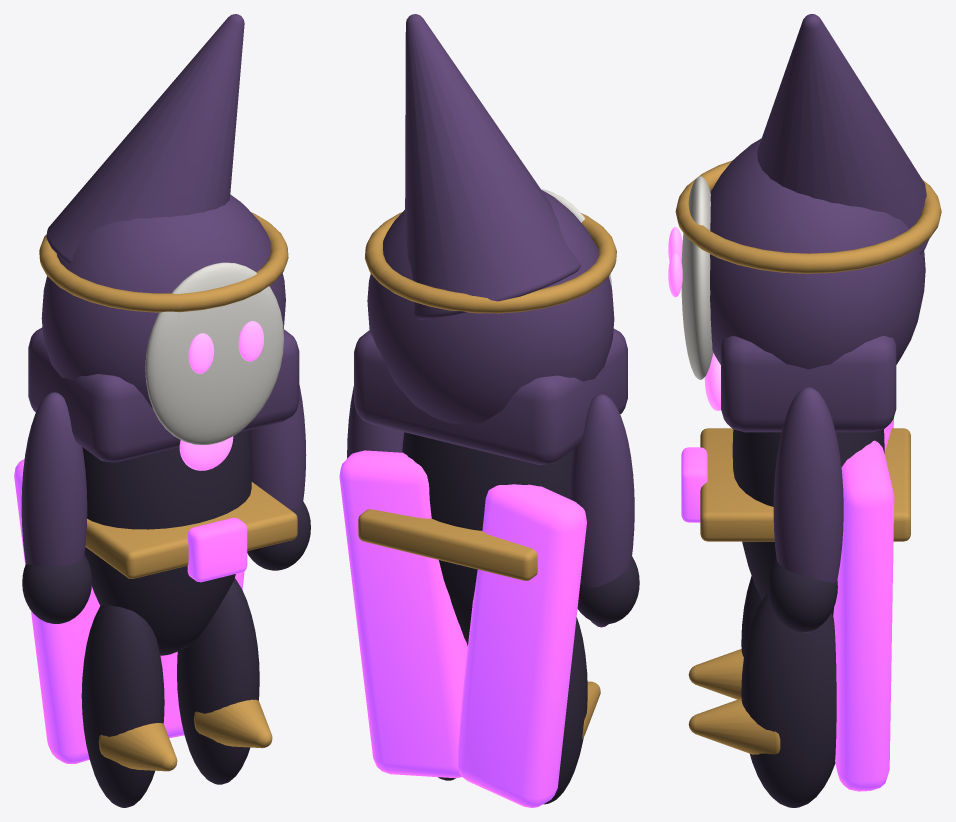
The model's file is mirage.glb.
The picture shows the model from 3 angles, left to right: view 1: azimuth 30°, elevation 25°; view 2: azimuth 150°, elevation 25°; view 3: azimuth 270°, elevation 25°; orthographic projection. The views are drawn at different scales.
Visible parts, largest first — view 1: CrescentHood, CrescentTip, TailoredTorso, PorcelainMask, Boot.002, HighCollar, Boot.003, Sleeve.002, Belt.001, Accent_CoatTail, GoldHoodBand, Sleeve.003 (+9 smaller); view 2: Accent_CoatTail, CrescentTip, Accent_CoatTail.001, CrescentHood, HighCollar, TailoredTorso, Sleeve.002, Belt.001, GoldHoodBand, Boot.002, Glove.002, Sleeve.003; view 3: CrescentHood, CrescentTip, Accent_CoatTail.001, Boot.003, HighCollar, Sleeve.003, Belt.001, GoldHoodBand, TailoredTorso, PorcelainMask, Glove.003, GoldToe.003 (+5 smaller).
Part boxes in pixels (box(x1,y1,x2,y2)): CrescentHood: box(41, 194, 285, 408); CrescentTip: box(46, 14, 244, 262); TailoredTorso: box(82, 430, 252, 655); PorcelainMask: box(145, 262, 283, 444); Boot.002: box(81, 605, 164, 807); HighCollar: box(28, 327, 299, 462); Boot.003: box(177, 578, 259, 784); Sleeve.002: box(21, 392, 87, 566); Belt.001: box(85, 482, 297, 578); Accent_CoatTail: box(14, 459, 99, 763); GoldHoodBand: box(39, 212, 288, 312); Sleeve.003: box(249, 385, 306, 509); Accent_CoatTail: box(458, 484, 586, 807); CrescentTip: box(405, 14, 581, 319); Accent_CoatTail.001: box(339, 450, 467, 778); CrescentHood: box(367, 190, 614, 424); HighCollar: box(354, 328, 627, 464); TailoredTorso: box(402, 432, 573, 645); Sleeve.002: box(568, 394, 634, 627); Belt.001: box(358, 509, 537, 580); GoldHoodBand: box(365, 212, 616, 313); Boot.002: box(543, 617, 587, 804); Glove.002: box(577, 556, 639, 623); Sleeve.003: box(347, 386, 404, 458); CrescentHood: box(710, 138, 925, 369); CrescentTip: box(757, 14, 929, 254); Accent_CoatTail.001: box(833, 440, 894, 791); Boot.003: box(741, 593, 836, 807); HighCollar: box(721, 335, 896, 432); Sleeve.003: box(773, 387, 843, 632); Belt.001: box(700, 428, 910, 541); GoldHoodBand: box(675, 161, 941, 273); TailoredTorso: box(732, 429, 884, 615); PorcelainMask: box(681, 176, 713, 379); Glove.003: box(767, 558, 837, 632); GoldToe.003: box(688, 698, 780, 754).
Size of the model in its own units: 1.18 by 3.04 by 0.935.
